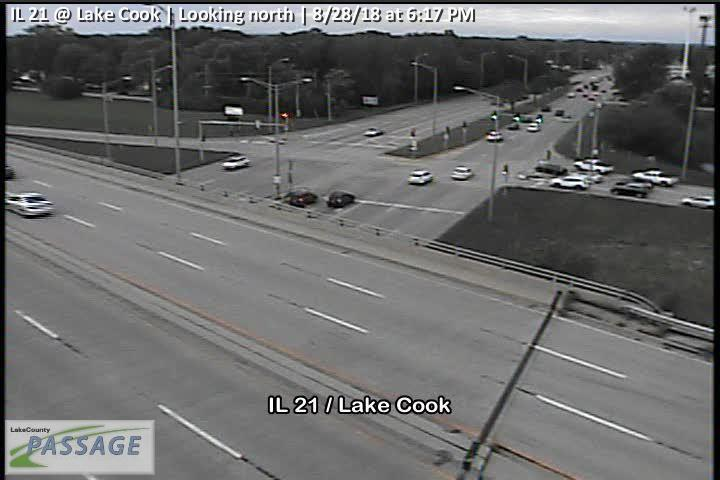SUV: (548, 173, 591, 190), (611, 180, 649, 199), (286, 189, 318, 205), (326, 190, 356, 207), (222, 154, 250, 170), (408, 170, 433, 186)
Sedan: (5, 193, 56, 218), (680, 195, 714, 209), (450, 166, 473, 179)
Truck: (632, 169, 680, 187), (573, 158, 615, 174)
